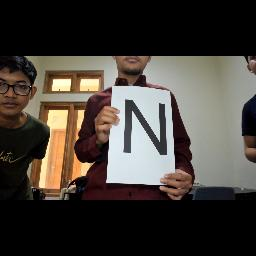n: (120, 98, 170, 162)
